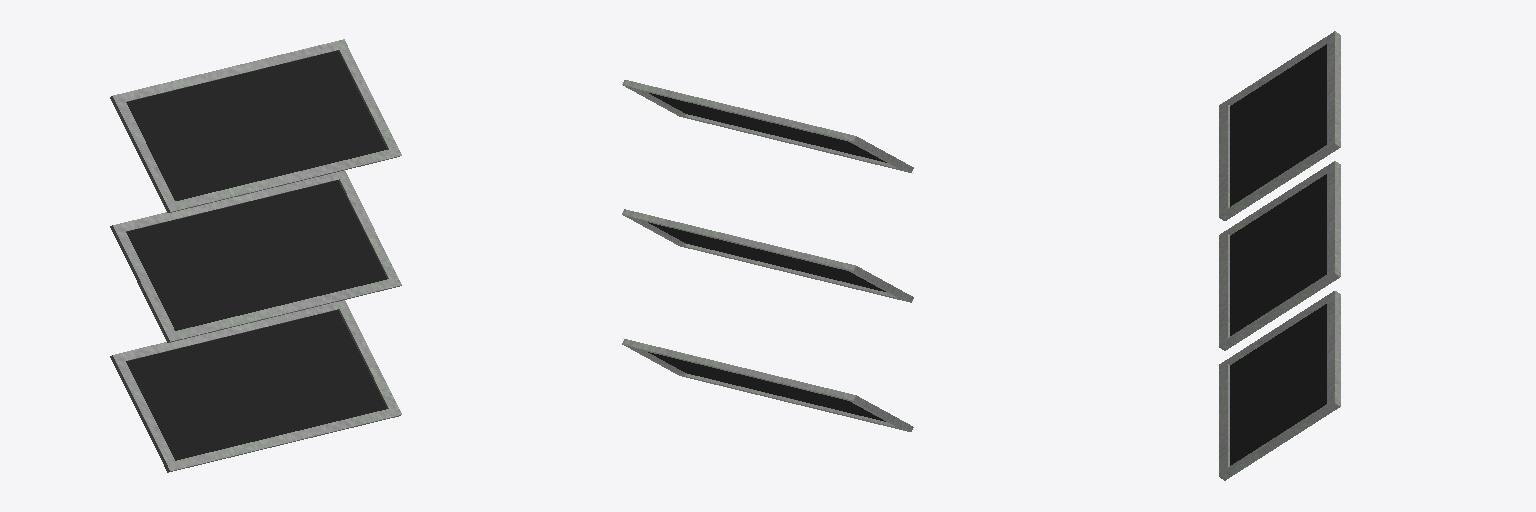
3 views of the same model, side by side, from view 1: azimuth 30°, elevation 25°; view 2: azimuth 150°, elevation 25°; view 3: azimuth 270°, elevation 25° (orthographic).
Parts seen in each view (by area): view 1: ventana3:Mesh5Group4Window_Awning_43_5x26_Opened3Group1Model1; view 2: ventana3:Mesh5Group4Window_Awning_43_5x26_Opened3Group1Model1; view 3: ventana3:Mesh5Group4Window_Awning_43_5x26_Opened3Group1Model1.
Part boxes in pixels (left/top/right/bottom): ventana3:Mesh5Group4Window_Awning_43_5x26_Opened3Group1Model1: left=110, top=39, right=401, bottom=472; ventana3:Mesh5Group4Window_Awning_43_5x26_Opened3Group1Model1: left=622, top=80, right=913, bottom=431; ventana3:Mesh5Group4Window_Awning_43_5x26_Opened3Group1Model1: left=1219, top=31, right=1340, bottom=480.
Bounding box in the file's own units: 0.873 × 1.21 × 0.3951.
6 materials, 1 textured.